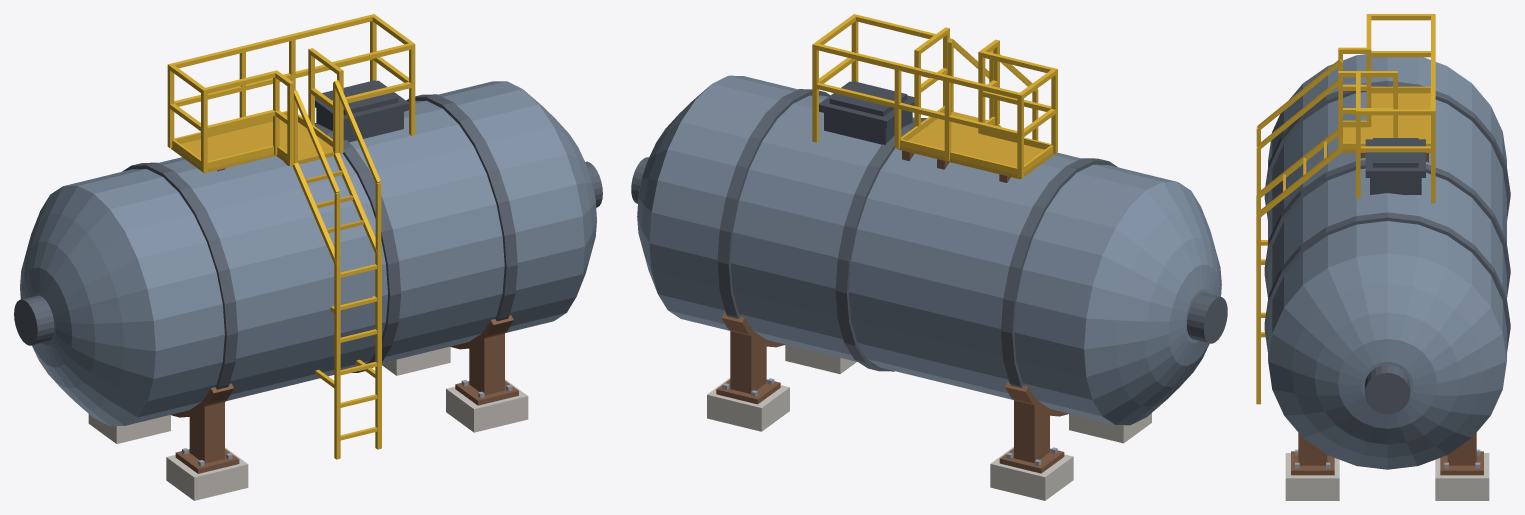
The model's file is clark q2 storage tank.fbx.
3 views of the same model, side by side, from view 1: azimuth 30°, elevation 25°; view 2: azimuth 150°, elevation 25°; view 3: azimuth 270°, elevation 25° (orthographic). The views are drawn at different scales.
Parts seen in each view (by area): view 1: Dished_Head_Left_Hub; view 2: Dished_Head_Left_Hub; view 3: Dished_Head_Left_Hub.
Boxes of the visible parts, box(x1,y1,x2,y2) form: Dished_Head_Left_Hub: box(14, 14, 602, 500); Dished_Head_Left_Hub: box(631, 14, 1227, 500); Dished_Head_Left_Hub: box(1256, 14, 1510, 500).
Size of the model in its own units: 606 by 376 by 245.
